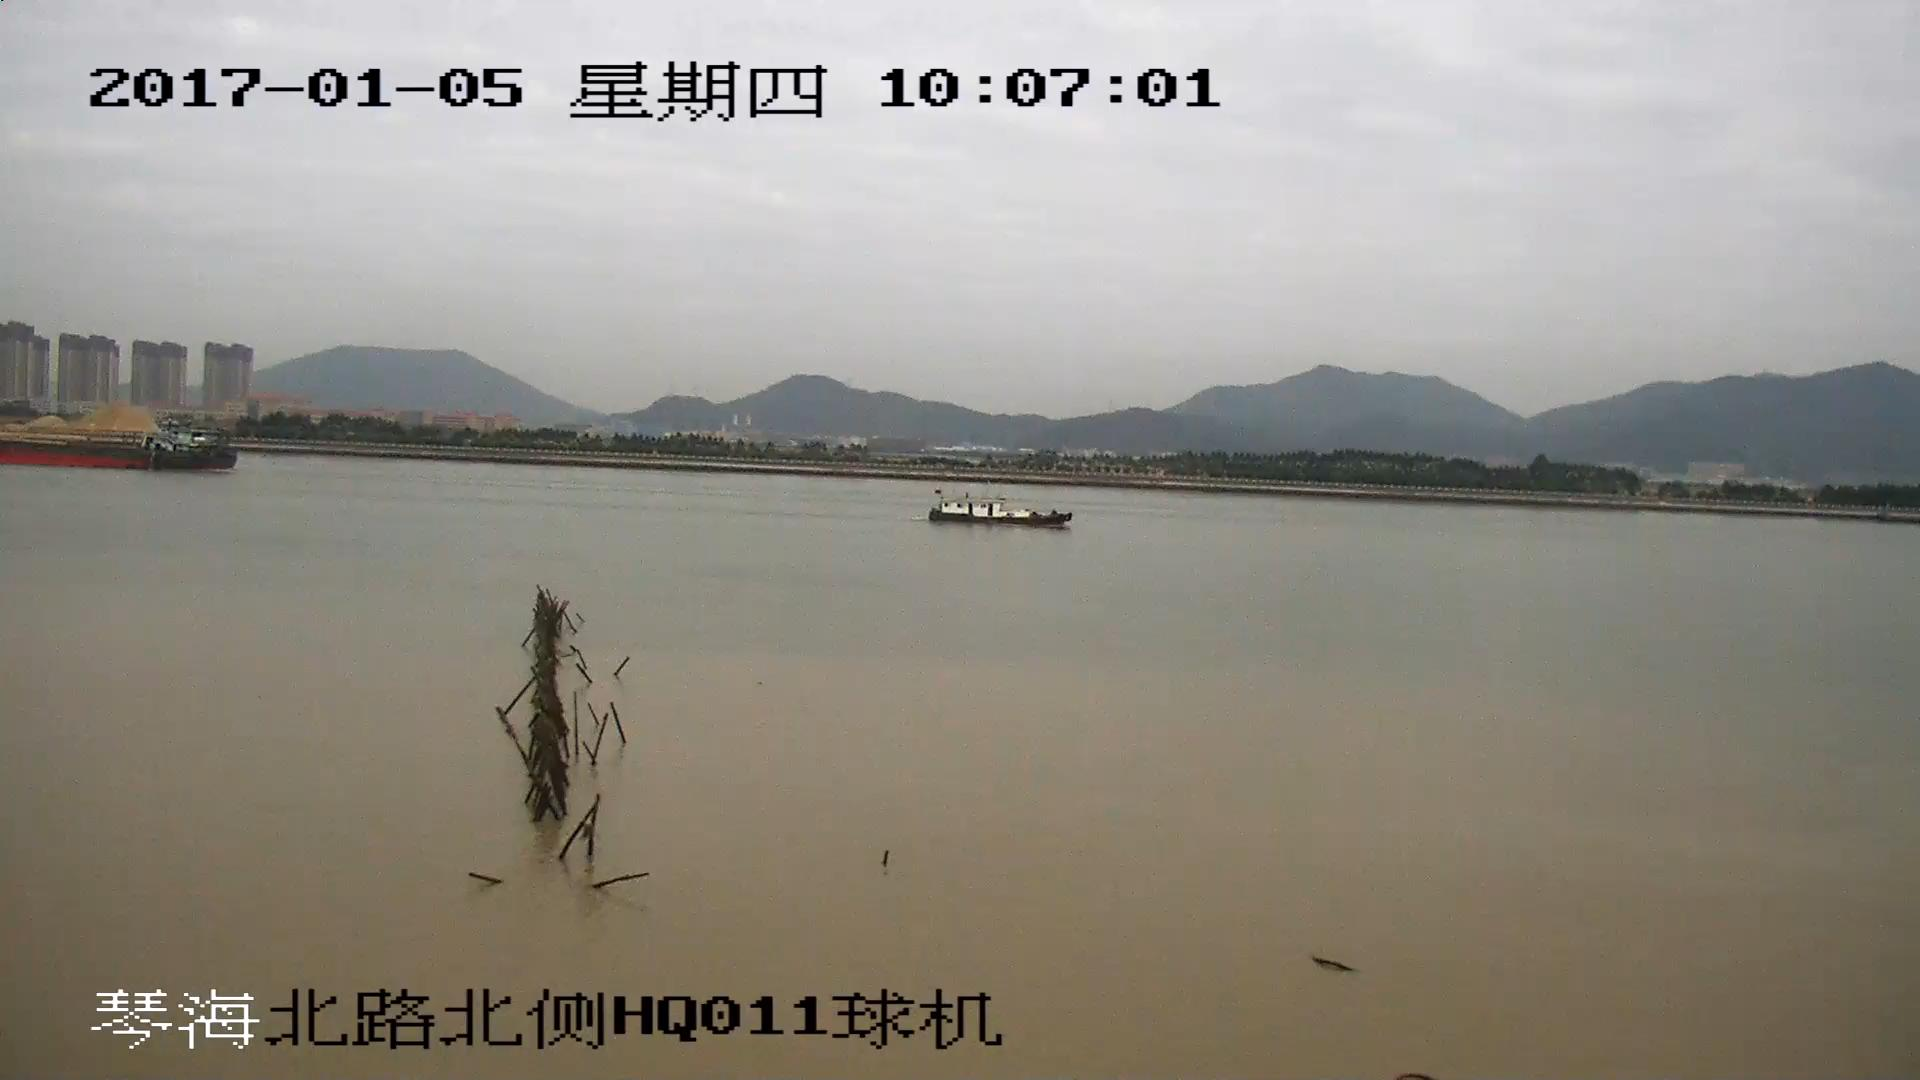bulk cargo carrier: (1, 426, 238, 476)
fishing boat: (928, 492, 1075, 531)
